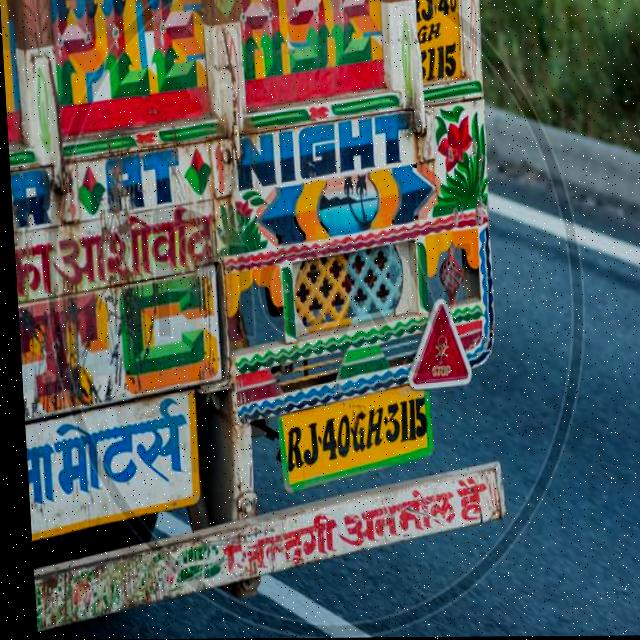plate: (272, 381, 431, 496)
